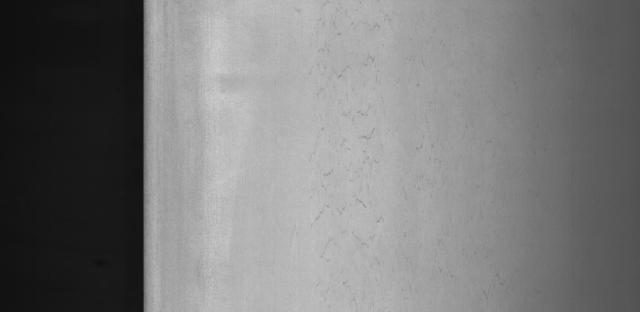silk_spot: (298, 7, 402, 294)
